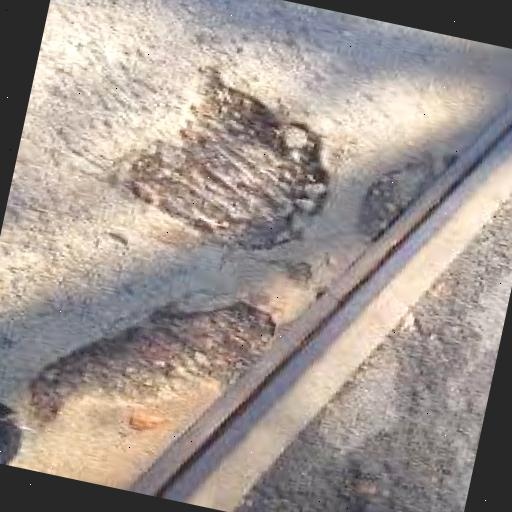spalling: (112, 84, 326, 248), (17, 303, 277, 432)
